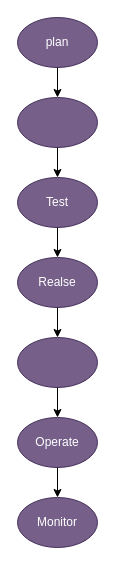
The diagram is 115 pixels wide and 565 high, and some of its shapes have lost their labels. Each missing label, with the centre of its shape:
"Deploy" goes at [57,362].
"Develop" goes at [57,122].
